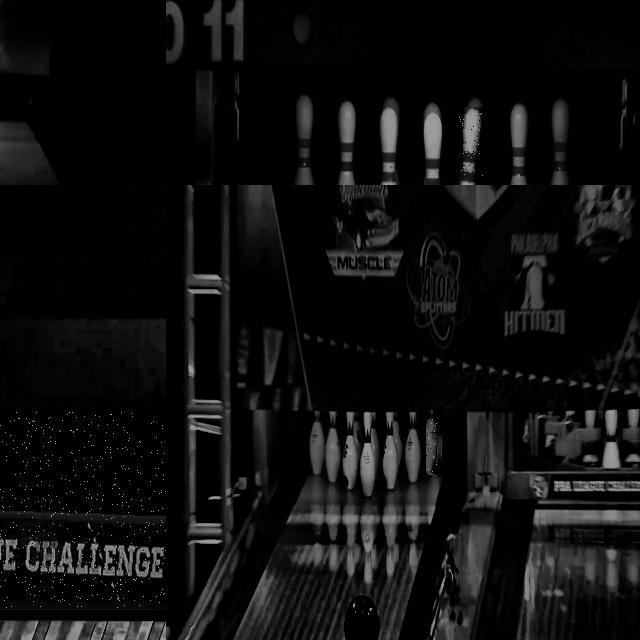bowling-ball: (345, 596, 379, 640)
bowling-pins: (293, 93, 315, 185), (551, 97, 571, 185), (337, 99, 356, 185), (510, 102, 529, 185), (464, 108, 484, 185), (423, 113, 443, 185), (379, 108, 397, 185), (382, 410, 399, 490), (360, 411, 375, 497), (342, 410, 358, 489), (405, 410, 421, 482), (325, 410, 341, 482), (309, 409, 325, 474), (371, 410, 382, 481), (427, 410, 439, 472), (393, 411, 404, 469), (353, 411, 364, 462)
sweep board: (0, 512, 166, 608)
